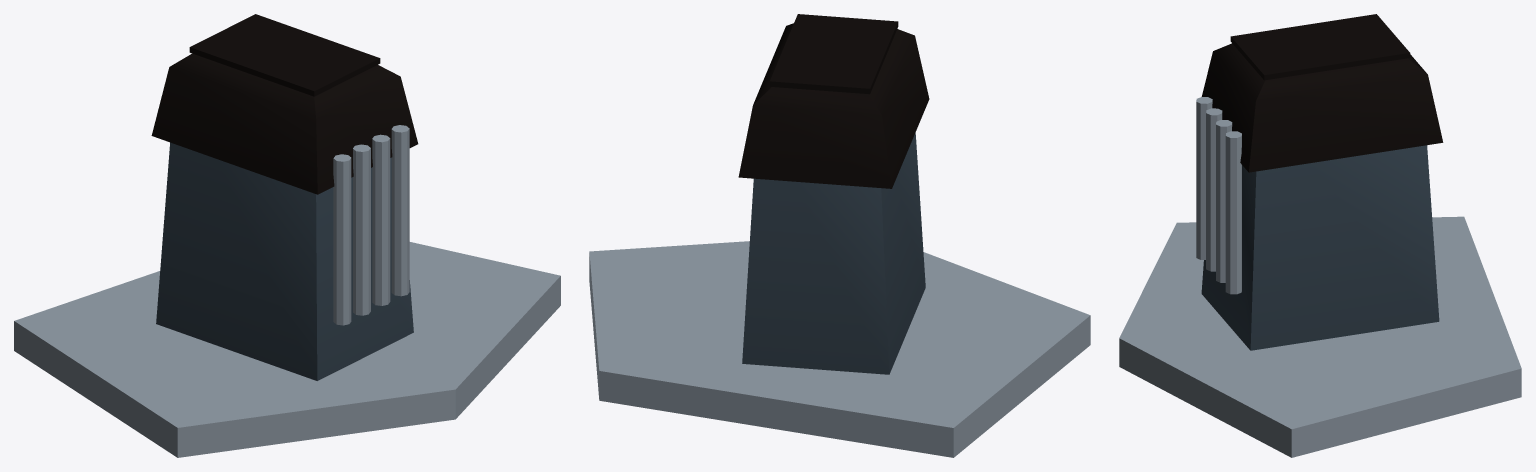
Rendered from debris_funnel.glb.
3 renders of one model, left to right at view 1: azimuth 30°, elevation 25°; view 2: azimuth 150°, elevation 25°; view 3: azimuth 270°, elevation 25°, orthographic. The views are drawn at different scales.
Visible parts, largest first — view 1: float_plate, funnel_body, soot, pipes, funnel_grill; view 2: float_plate, funnel_body, soot, funnel_grill; view 3: float_plate, funnel_body, soot, pipes, funnel_grill.
Boxes of the visible parts, x1,y1,x2,y2 form: float_plate: [14, 242, 560, 457]; funnel_body: [156, 142, 413, 380]; soot: [151, 53, 418, 194]; pipes: [333, 125, 409, 325]; funnel_grill: [189, 14, 380, 96]; float_plate: [589, 241, 1090, 457]; funnel_body: [742, 133, 925, 374]; soot: [738, 23, 929, 188]; funnel_grill: [769, 14, 898, 94]; float_plate: [1119, 216, 1521, 457]; funnel_body: [1201, 145, 1439, 350]; soot: [1201, 43, 1443, 172]; pipes: [1196, 97, 1241, 294]; funnel_grill: [1230, 14, 1410, 80].
Bounding box in the file's own units: 3.5 × 2.24 × 2.8.
